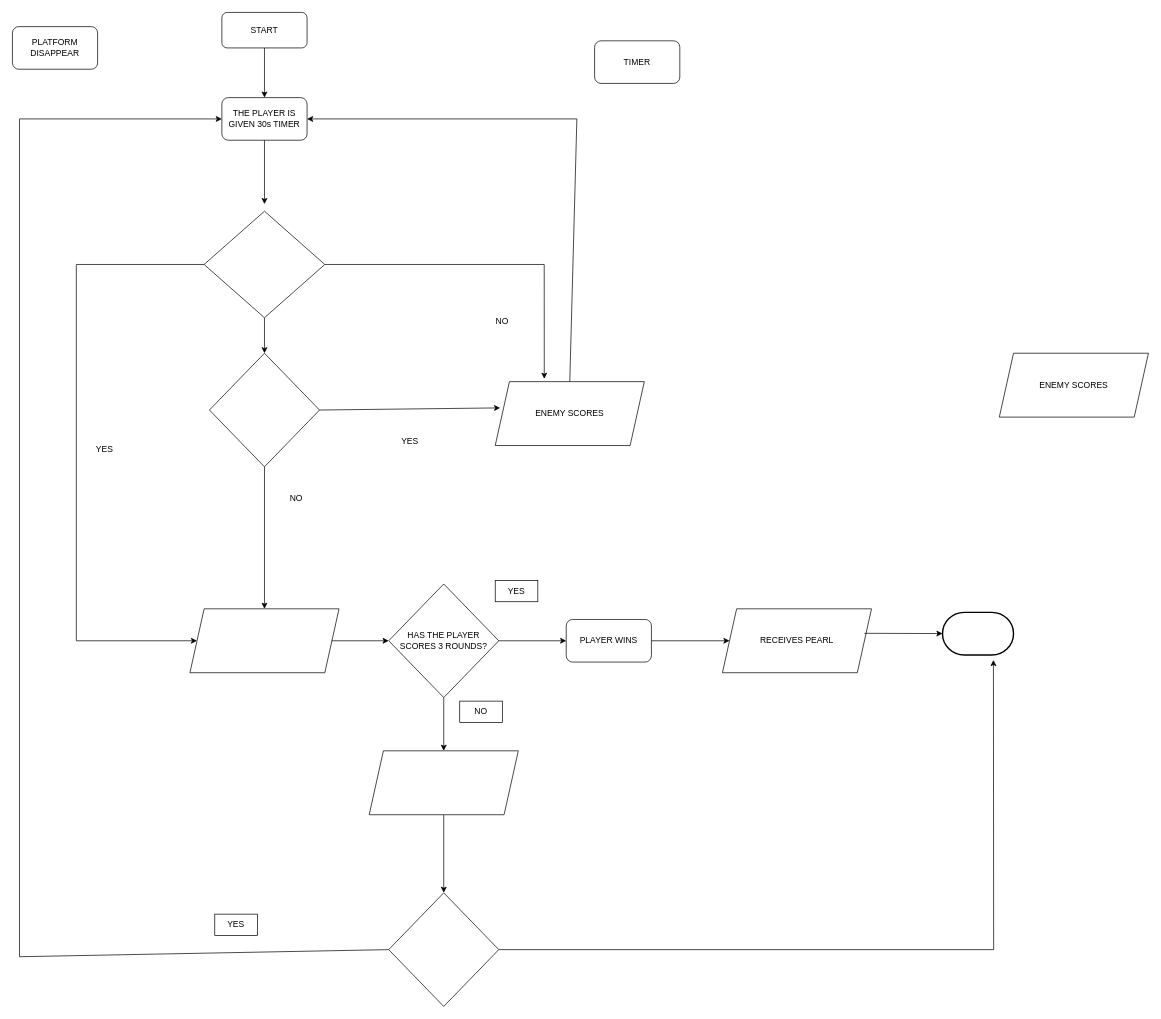
Image size: 1161x1019. Some labels were removed from this diagram. The shapes that lost their labels are listed below. From the top down, each one's box as (x1, y1, x2, y2) in pixels, then its label:
(203, 211, 325, 318): IS 30S TIMER RUNES OUT?
(209, 353, 320, 467): DOES THE PLAYER TOUCH BY THE ENEMY?
(189, 608, 339, 673): PLAYER SCORES
(941, 611, 1014, 655): END
(368, 750, 518, 815): ENEMY WINS
(388, 892, 499, 1006): TRY AGANE?
